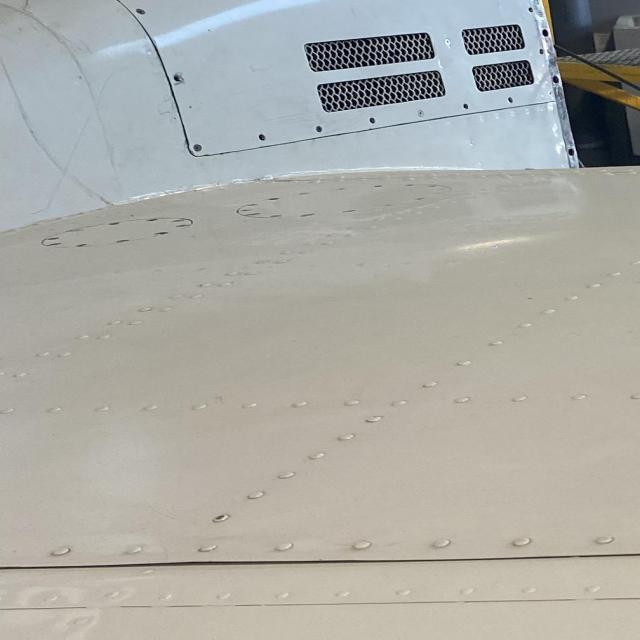Missing-head: (169, 71, 188, 85), (457, 101, 474, 112), (255, 132, 268, 143), (366, 116, 379, 125), (505, 95, 514, 104)
